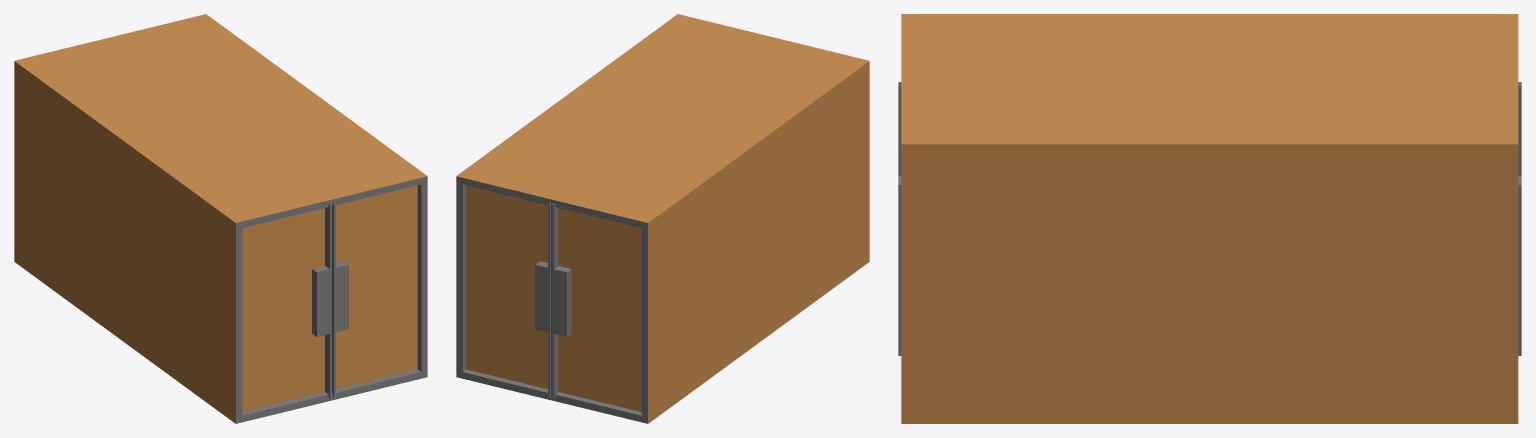
Rendered from Container.fbx.
3 renders of one model, left to right at view 1: azimuth 30°, elevation 25°; view 2: azimuth 150°, elevation 25°; view 3: azimuth 270°, elevation 25°, orthographic. The views are drawn at different scales.
Visible parts, largest first — view 1: Cube, Cube.002; view 2: Cube, Cube.001; view 3: Cube, Cube.001, Cube.002.
Boxes of the visible parts, box(x1,y1,x2,y2) form: Cube: box(14, 14, 427, 423); Cube.002: box(312, 202, 348, 398); Cube: box(456, 14, 869, 423); Cube.001: box(535, 202, 571, 398); Cube: box(901, 14, 1518, 423); Cube.001: box(1518, 82, 1521, 355); Cube.002: box(898, 82, 901, 355).
Size of the model in its own units: 600 by 600 by 1212.
